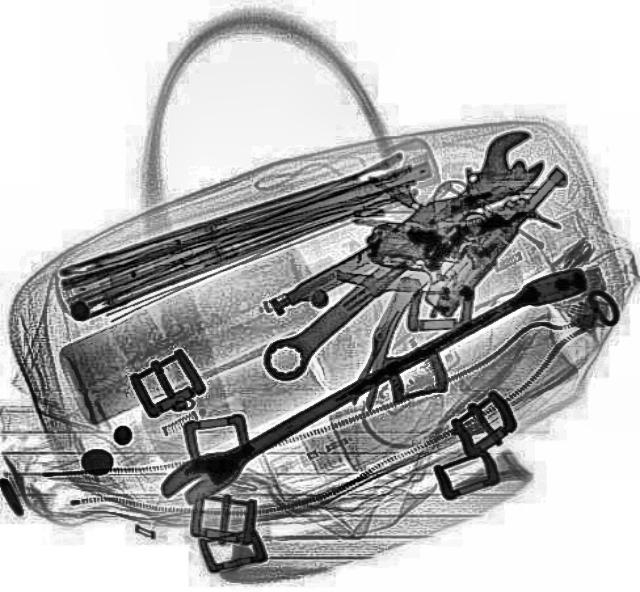Gun: (344, 102, 574, 322)
Wrench: (148, 252, 596, 514), (244, 119, 562, 393)
